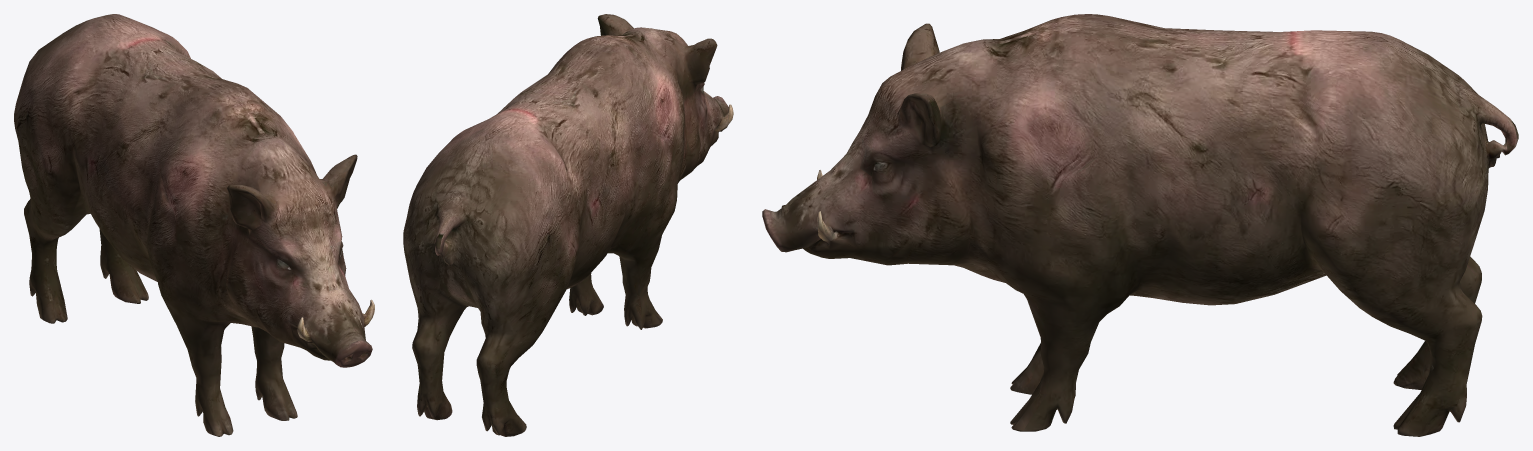
File: pig.glb
The picture shows the model from 3 angles, left to right: view 1: azimuth 30°, elevation 25°; view 2: azimuth 150°, elevation 25°; view 3: azimuth 270°, elevation 25°; orthographic projection. The views are drawn at different scales.
Visible parts, largest first — view 1: Mesh_0; view 2: Mesh_0; view 3: Mesh_0.
Part boxes in pixels (<box>): Mesh_0: <box>14,14,374,436</box>; Mesh_0: <box>403,14,733,436</box>; Mesh_0: <box>762,14,1518,436</box>.
Size of the model in its own units: 0.5471 by 1.06 by 1.9.
1 material, 1 textured.
